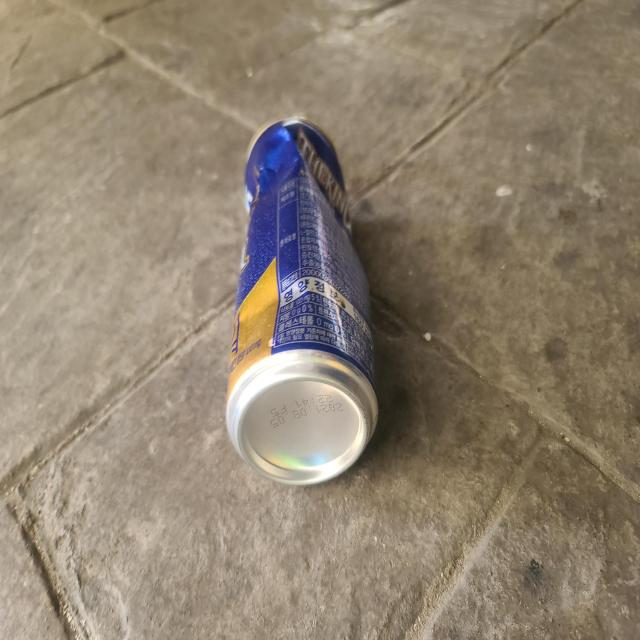can: (226, 117, 378, 485)
